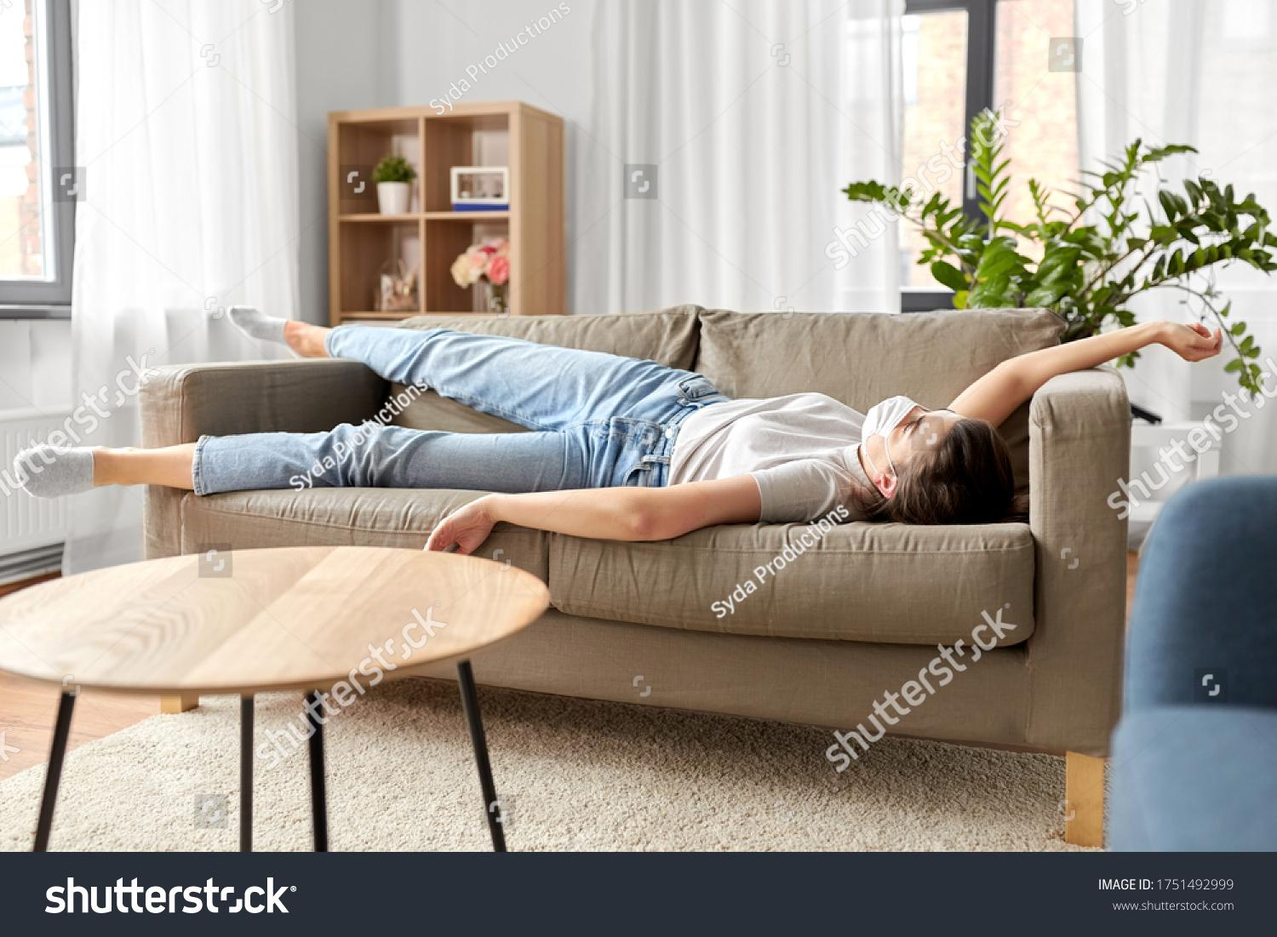OK: (859, 397, 971, 465)
